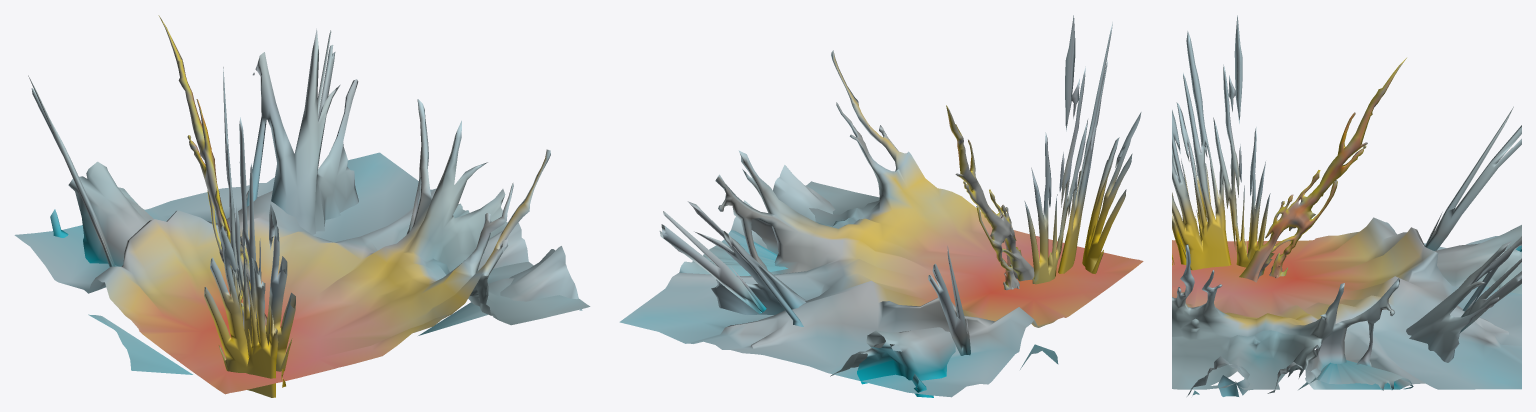
3 views of the same model, side by side, from view 1: azimuth 30°, elevation 25°; view 2: azimuth 150°, elevation 25°; view 3: azimuth 270°, elevation 25° (orthographic). The views are drawn at different scales.
Parts seen in each view (by area): view 1: G:\FFXIV-MapTools\exports\s1f2\bg\ffxiv\sea_s1\fld\s1f2\bgpl (×6); view 2: G:\FFXIV-MapTools\exports\s1f2\bg\ffxiv\sea_s1\fld\s1f2\bgpl (×6); view 3: G:\FFXIV-MapTools\exports\s1f2\bg\ffxiv\sea_s1\fld\s1f2\bgpl (×6).
Part boxes in pixels (x1=…): G:\FFXIV-MapTools\exports\s1f2\bg\ffxiv\sea_s1\fld\s1f2\bgpl (×6): x1=14, y1=15, x2=590, y2=397; G:\FFXIV-MapTools\exports\s1f2\bg\ffxiv\sea_s1\fld\s1f2\bgpl (×6): x1=619, y1=15, x2=1143, y2=397; G:\FFXIV-MapTools\exports\s1f2\bg\ffxiv\sea_s1\fld\s1f2\bgpl (×6): x1=1172, y1=15, x2=1521, y2=396.
Bounding box in the file's own units: 128 × 113 × 128.
